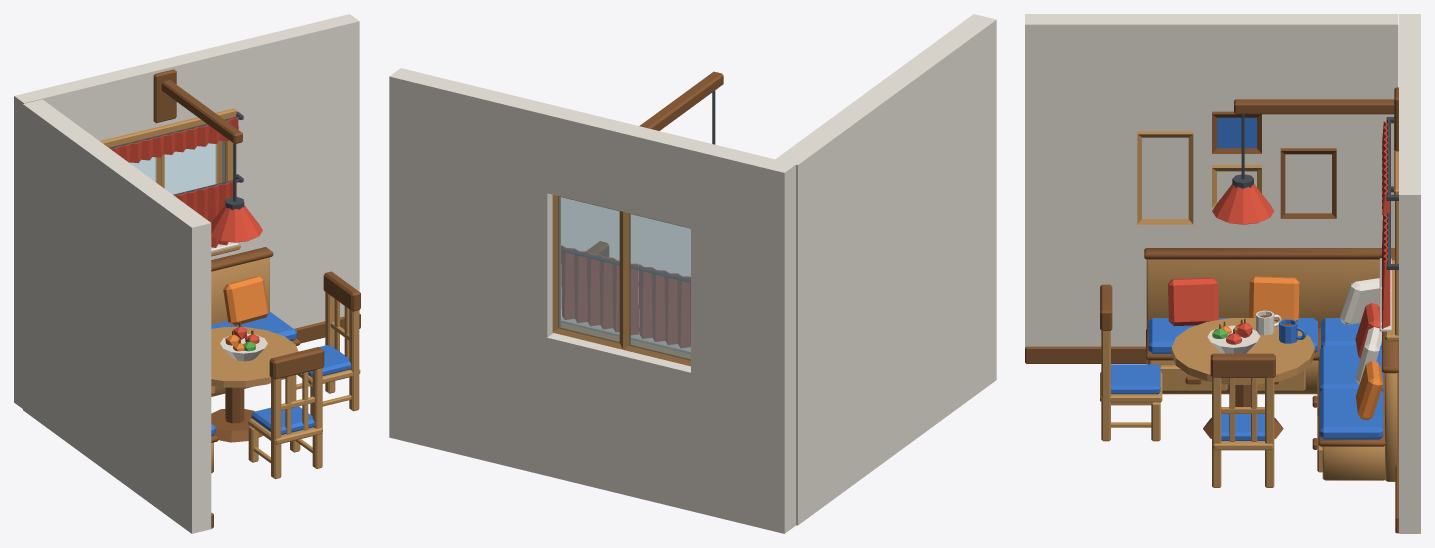
The model's file is cosy-breakfast-nook.glb.
The picture shows the model from 3 angles, left to right: view 1: azimuth 30°, elevation 25°; view 2: azimuth 150°, elevation 25°; view 3: azimuth 270°, elevation 25°; orthographic projection. The views are drawn at different scales.
Visible parts, largest first — view 1: Wall_Left, Wall_Back, Table_Top, Window_Right, Valance, Pillow_3, Bench_Backrest, Lamp, Curtain_2, LampArm, Chair_1_TopRail, Casing_Top (+16 smaller); view 2: Wall_Back, Wall_Left, Window_Right, Window_Left, Curtain_2, Curtain_1, LampArm; view 3: Wall_Left, Wall_Back, Bench_Backrest, PictureFrame_4, Table_Top, PictureFrame_1, Bench_TopRail, Bench_Base, Seat_2, LampArm, Pillow_6, Baseboard_Left (+27 smaller).
Part boxes in pixels (x1,y1,x2,y2): Wall_Left: (23, 99, 211, 533); Wall_Back: (14, 14, 359, 408); Table_Top: (211, 327, 298, 387); Window_Right: (161, 140, 221, 194); Valance: (110, 118, 238, 163); Pillow_3: (223, 276, 268, 325); Bench_Backrest: (211, 257, 269, 324); Lamp: (211, 205, 262, 242); Curtain_2: (174, 181, 236, 247); LampArm: (161, 80, 242, 143); Chair_1_TopRail: (269, 347, 324, 379); Casing_Top: (100, 108, 236, 147); Wall_Back: (389, 68, 795, 533); Wall_Left: (775, 14, 996, 525); Window_Right: (552, 194, 623, 349); Window_Left: (624, 212, 690, 366); Curtain_2: (561, 245, 638, 334); Curtain_1: (639, 264, 690, 347); LampArm: (639, 71, 723, 130); Wall_Left: (1025, 14, 1398, 347); Wall_Back: (1399, 14, 1420, 533); Bench_Backrest: (1146, 259, 1397, 481); PictureFrame_4: (1137, 131, 1193, 224); Table_Top: (1171, 318, 1314, 384); PictureFrame_1: (1280, 148, 1336, 218); Bench_TopRail: (1144, 248, 1398, 373); Bench_Base: (1149, 360, 1384, 480); Seat_2: (1319, 388, 1383, 439); LampArm: (1234, 99, 1394, 114); Pillow_6: (1168, 277, 1218, 326); Baseboard_Left: (1025, 346, 1146, 363).
Size of the model in its own units: 13.8 by 12 by 12.7.
